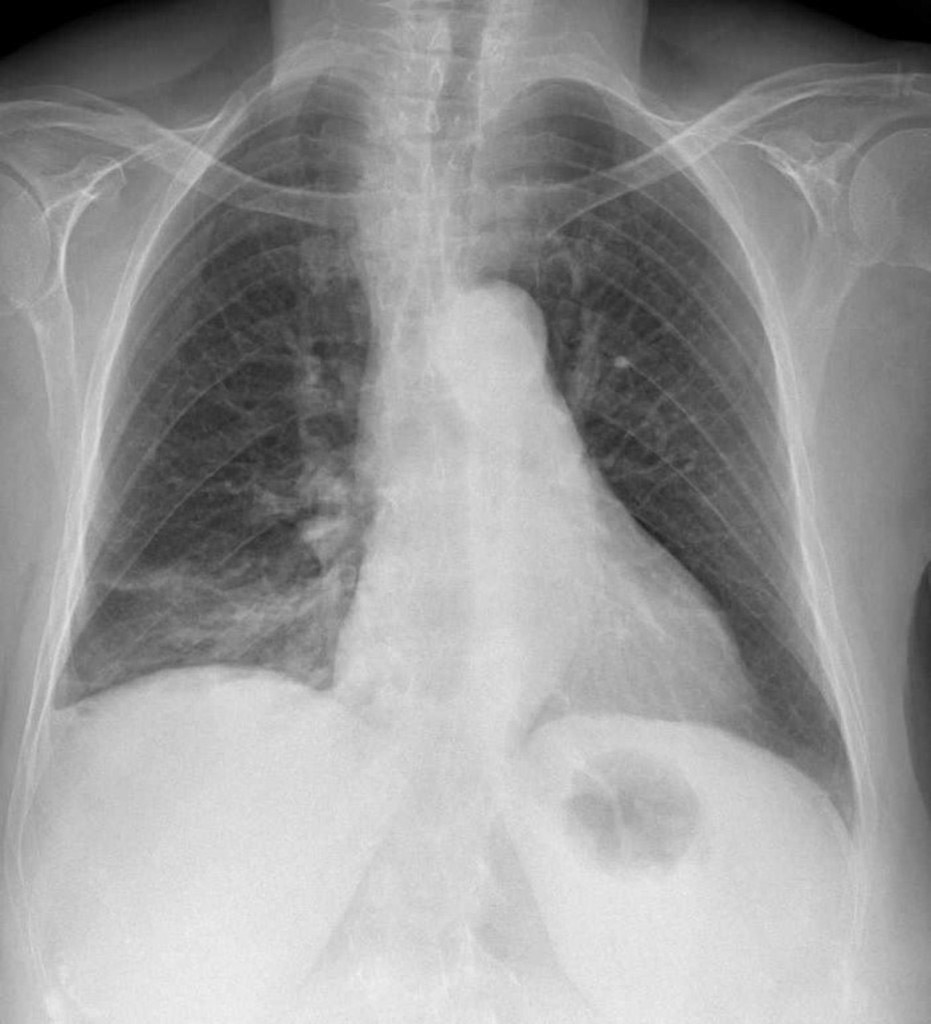Mildw: (468, 77, 849, 819), (40, 81, 408, 718)
